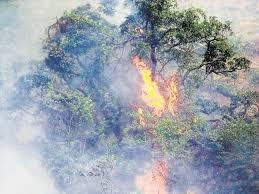fire: (131, 53, 181, 118), (134, 159, 172, 194)
